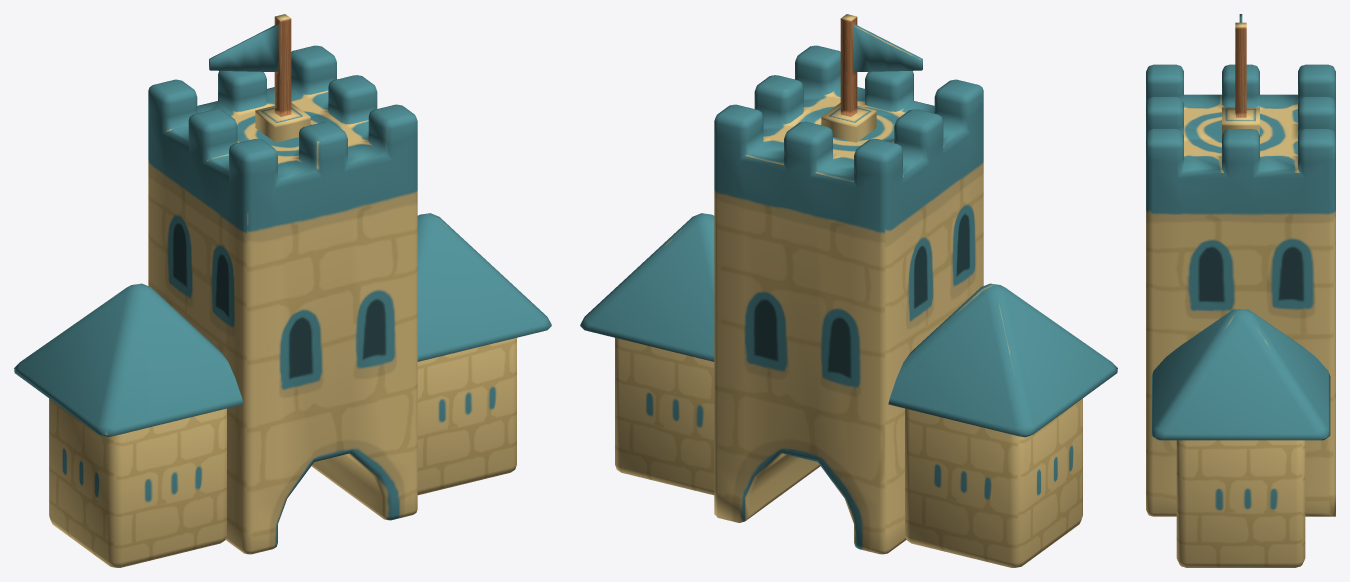
The model's file is castle.fbx.
The picture shows the model from 3 angles, left to right: view 1: azimuth 30°, elevation 25°; view 2: azimuth 150°, elevation 25°; view 3: azimuth 270°, elevation 25°; orthographic projection. The views are drawn at different scales.
Parts seen in each view (by area): view 1: Cube.004; view 2: Cube.004; view 3: Cube.004.
Part boxes in pixels (<box>): Cube.004: <box>14,14,551,567</box>; Cube.004: <box>580,14,1117,567</box>; Cube.004: <box>1146,14,1335,567</box>.
Bounding box in the file's own units: 518 × 528 × 200.
